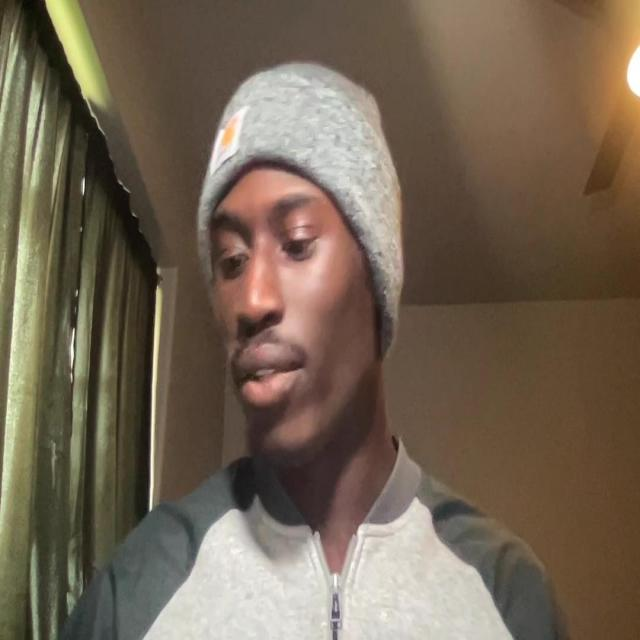face: (196, 152, 404, 473)
